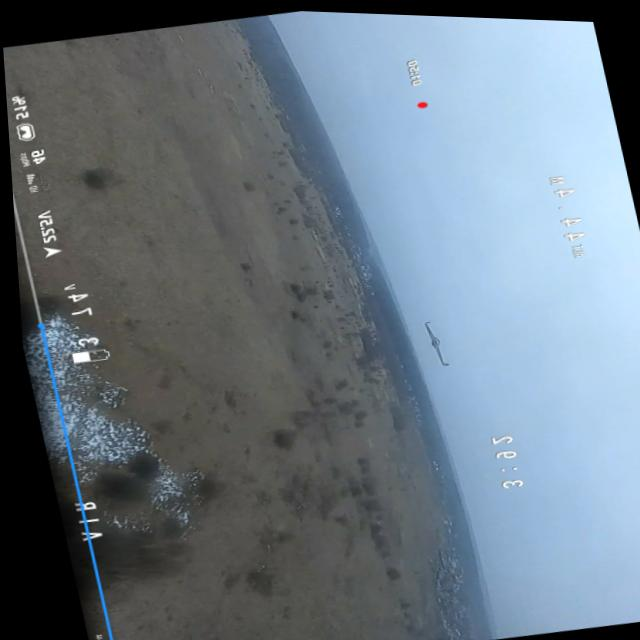planedrone: (421, 316, 458, 369)
